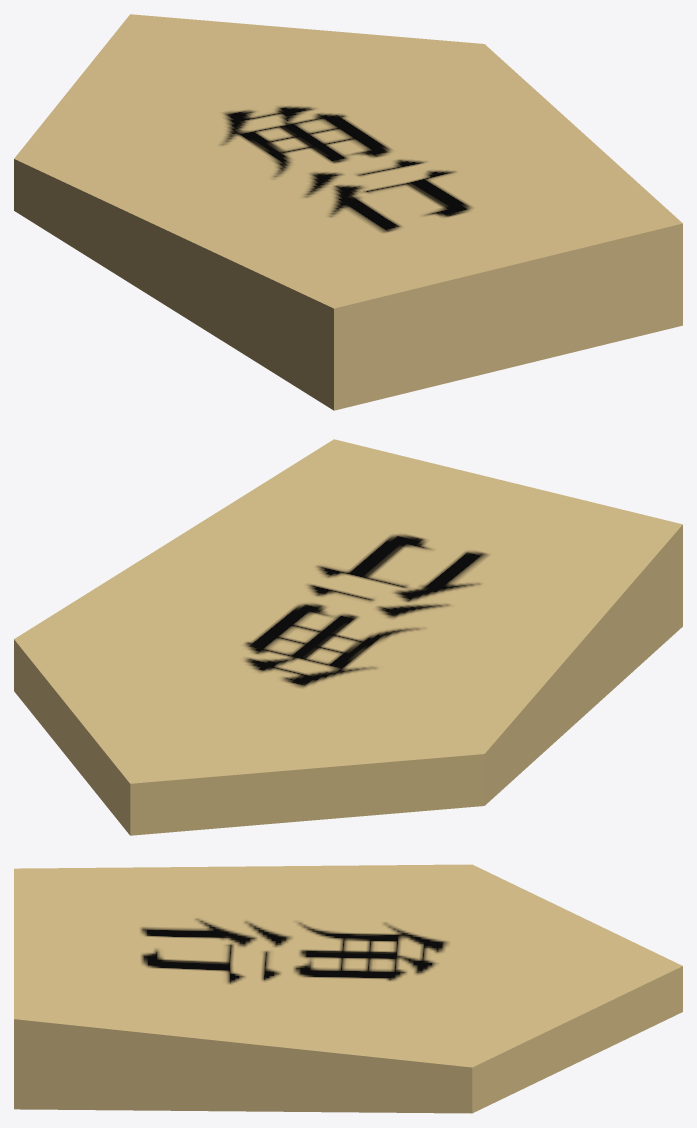
The model's file is piece_kakugyo.gltf.
3 views of the same model, one above another, from view 1: azimuth 30°, elevation 25°; view 2: azimuth 150°, elevation 25°; view 3: azimuth 270°, elevation 25° (orthographic). The views are drawn at different scales.
Parts seen in each view (by area): view 1: Cube; view 2: Cube; view 3: Cube.
Part boxes in pixels (x1=…): Cube: x1=14, y1=14, x2=682, y2=410; Cube: x1=14, y1=439, x2=682, y2=835; Cube: x1=14, y1=864, x2=682, y2=1113.
Bounding box in the file's own units: 1.31 × 0.2712 × 1.82.
1 material, 1 textured.
